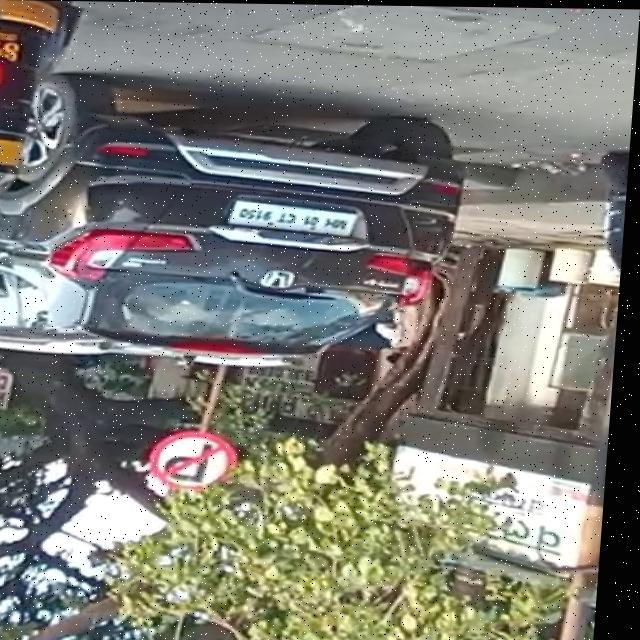plate: (229, 197, 366, 238)
